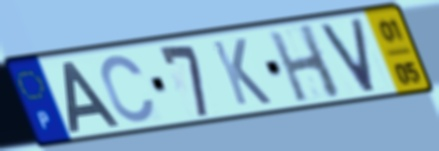7: (155, 43, 210, 119)
A: (61, 58, 123, 135)
C: (98, 52, 157, 125)
H: (265, 22, 346, 105)
K: (208, 36, 275, 108)
V: (316, 15, 379, 96)
